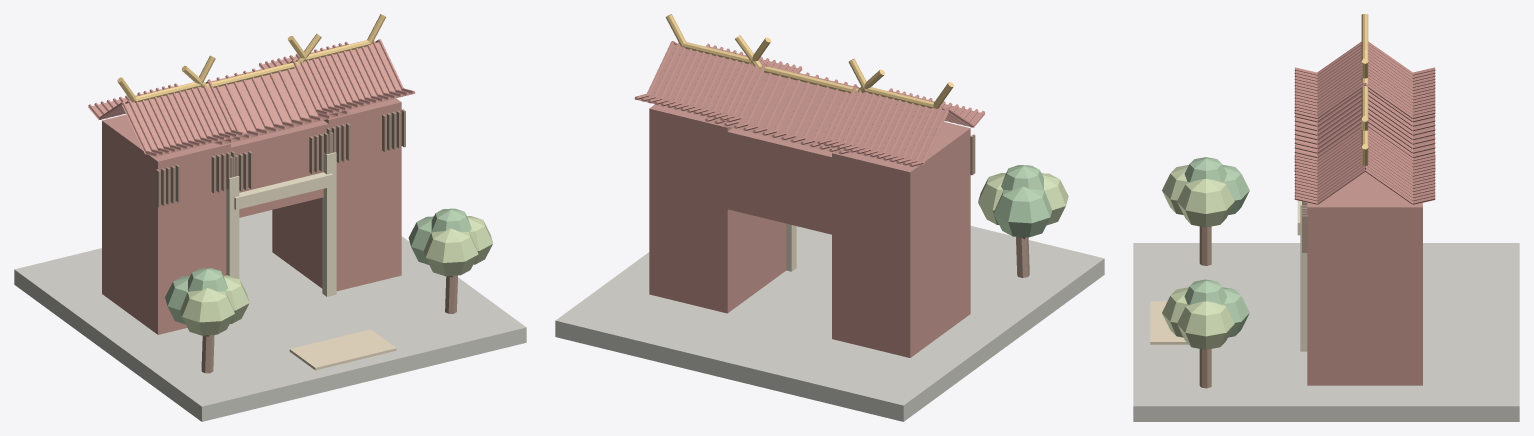
File: dot-tpl-culture-2.glb
The picture shows the model from 3 angles, left to right: view 1: azimuth 30°, elevation 25°; view 2: azimuth 150°, elevation 25°; view 3: azimuth 270°, elevation 25°; orthographic projection. The views are drawn at different scales.
Parts seen in each view (by area): view 1: paving; view 2: paving; view 3: paving.
Part boxes in pixels (x1=…): paving: x1=14, y1=14, x2=526, y2=421; paving: x1=555, y1=14, x2=1104, y2=421; paving: x1=1133, y1=14, x2=1519, y2=421.
Size of the model in its own units: 4 by 2.99 by 4.
Materials: 1 (1 with a texture image).
